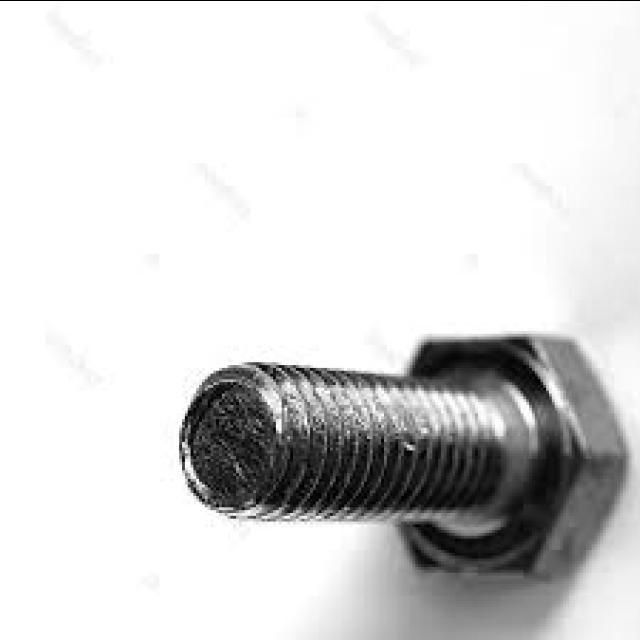bolt: (181, 332, 623, 576)
